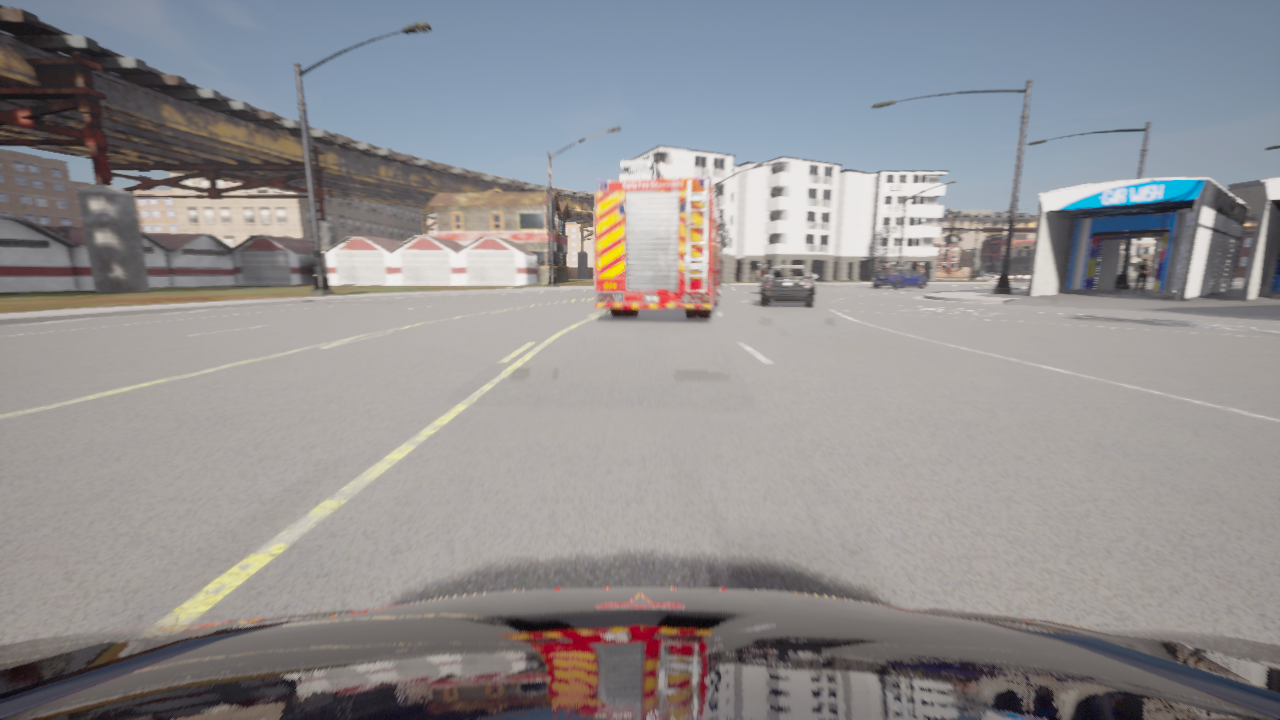cyclist: (0, 588, 1279, 719), (593, 160, 728, 319), (761, 266, 815, 307), (872, 267, 926, 288), (983, 272, 999, 277), (1008, 272, 1016, 277), (759, 280, 763, 288)
pedestrian: (1133, 258, 1148, 294)
